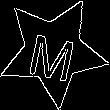M_N: (26, 22, 81, 81)
